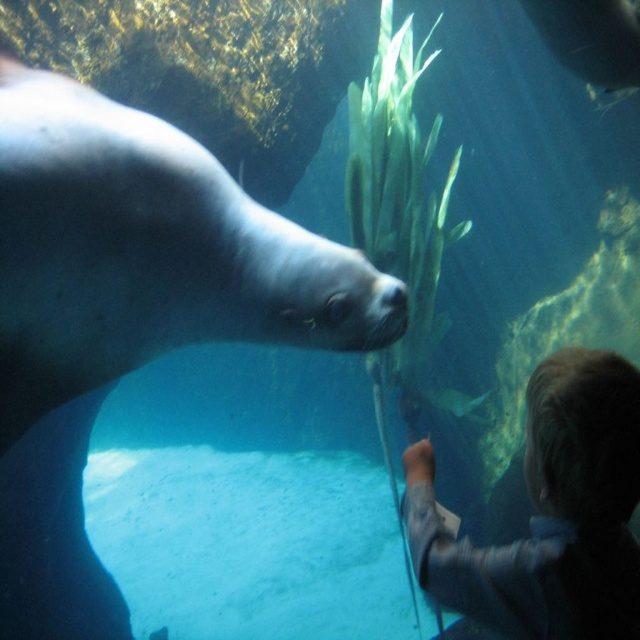Sea lion: (0, 50, 409, 458), (517, 0, 640, 115)
